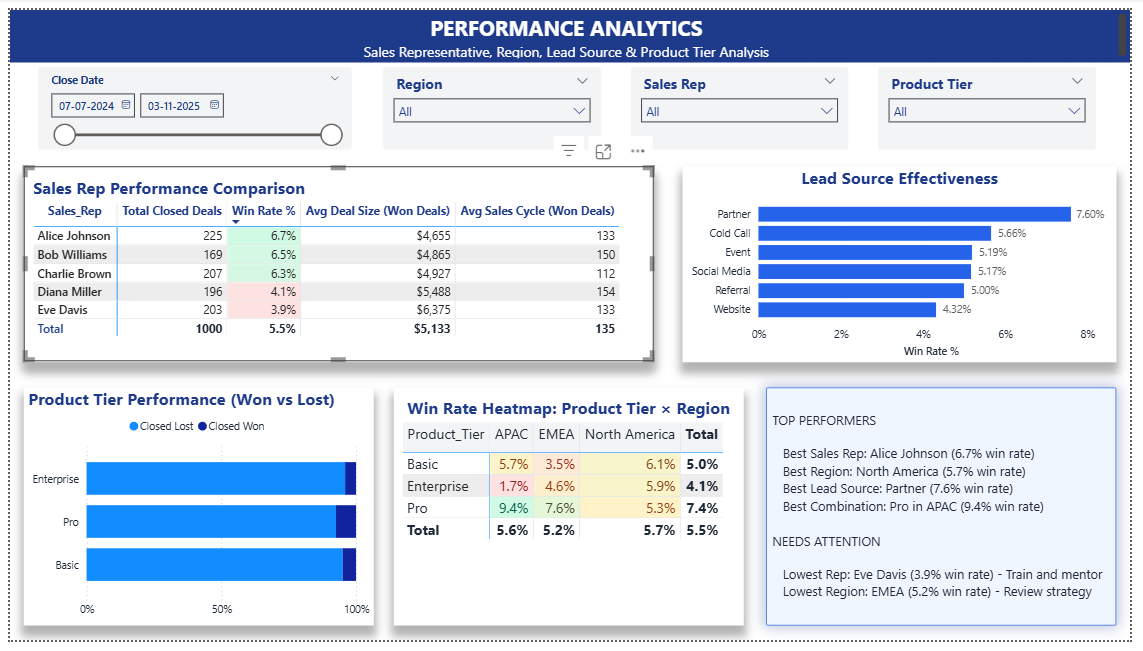

The dashboard page shown, as its layout file describes it:
{"tool":"powerbi","page":{"name":"Performance Analysis","canvas":[1280,720],"ordinal":1},"visuals":[{"type":"textbox","box":[0,0,1280,60],"z":0},{"type":"slicer","fields":{"Values":["cleaned_cloudnova_sales_pipeline.Close_Date"]},"box":[32,64,360,96],"z":1000},{"type":"slicer","fields":{"Values":["cleaned_cloudnova_sales_pipeline.Region"]},"box":[425.3,64,250,96],"z":2000},{"type":"slicer","fields":{"Values":["cleaned_cloudnova_sales_pipeline.Sales_Rep"]},"box":[708.7,64,250,96],"z":3000},{"type":"slicer","fields":{"Values":["cleaned_cloudnova_sales_pipeline.Product_Tier"]},"box":[992,64,250,96],"z":4000},{"type":"pivotTable","title":"Sales Rep Performance Comparison","fields":{"Rows":["cleaned_cloudnova_sales_pipeline.Sales_Rep"],"Values":["Measure Table.Total Closed Deals","Measure Table.Win Rate %","Measure Table.Avg Deal Size (Won Deals)","Measure Table.Avg Sales Cycle (Won Deals)"]},"box":[16,178,720,224],"z":5000},{"type":"clusteredBarChart","title":"Lead Source Effectiveness","fields":{"Category":["cleaned_cloudnova_sales_pipeline.Lead_Source"],"Y":["Measure Table.Win Rate %"]},"box":[768,178,496,224],"z":6000},{"type":"hundredPercentStackedBarChart","title":"Product Tier Performance (Won vs Lost)","fields":{"Category":["cleaned_cloudnova_sales_pipeline.Product_Tier"],"Series":["cleaned_cloudnova_sales_pipeline.Stage"],"Y":["cleaned_cloudnova_sales_pipeline.Opportunity_ID"]},"box":[16,432,400,272],"z":7000},{"type":"pivotTable","title":"Win Rate Heatmap: Product Tier × Region","fields":{"Rows":["cleaned_cloudnova_sales_pipeline.Product_Tier"],"Columns":["cleaned_cloudnova_sales_pipeline.Region"],"Values":["Measure Table.Win Rate %"]},"box":[438,432,400,272],"z":8000},{"type":"textbox","box":[864,432,400,272],"z":9000}]}

Visuals, with their boxes in screenshot pixels (x1, y1, x2, y2), scaled from the page's 1280x720 canvas onto the 1143x651 screenshot:
textbox: bbox(0, 0, 1142, 54)
slicer - cleaned_cloudnova_sales_pipeline.Close_Date: bbox(29, 58, 350, 145)
slicer - cleaned_cloudnova_sales_pipeline.Region: bbox(380, 58, 603, 145)
slicer - cleaned_cloudnova_sales_pipeline.Sales_Rep: bbox(633, 58, 856, 145)
slicer - cleaned_cloudnova_sales_pipeline.Product_Tier: bbox(886, 58, 1109, 145)
"Sales Rep Performance Comparison" pivotTable: bbox(14, 161, 657, 363)
"Lead Source Effectiveness" clusteredBarChart: bbox(686, 161, 1129, 363)
"Product Tier Performance (Won vs Lost)" hundredPercentStackedBarChart: bbox(14, 391, 371, 637)
"Win Rate Heatmap: Product Tier × Region" pivotTable: bbox(391, 391, 748, 637)
textbox: bbox(772, 391, 1129, 637)
